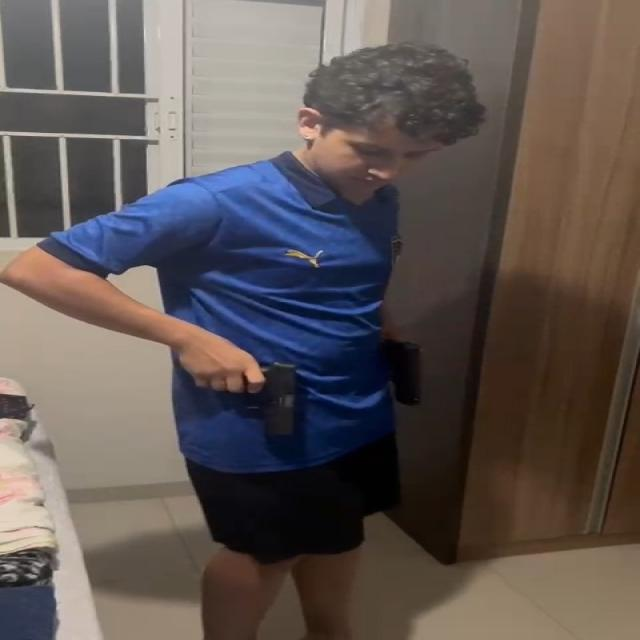guns: (236, 362, 306, 442)
